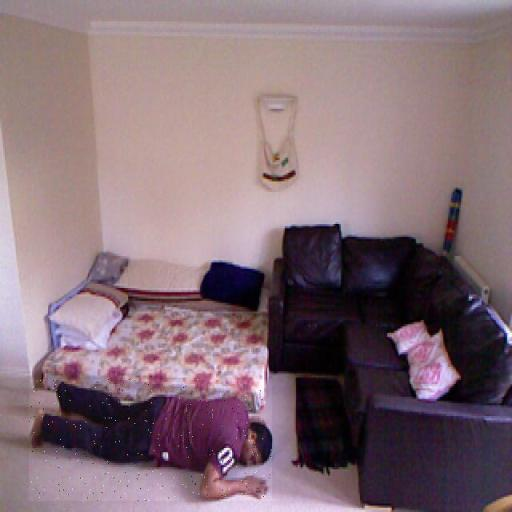Fall: (29, 380, 272, 502)
